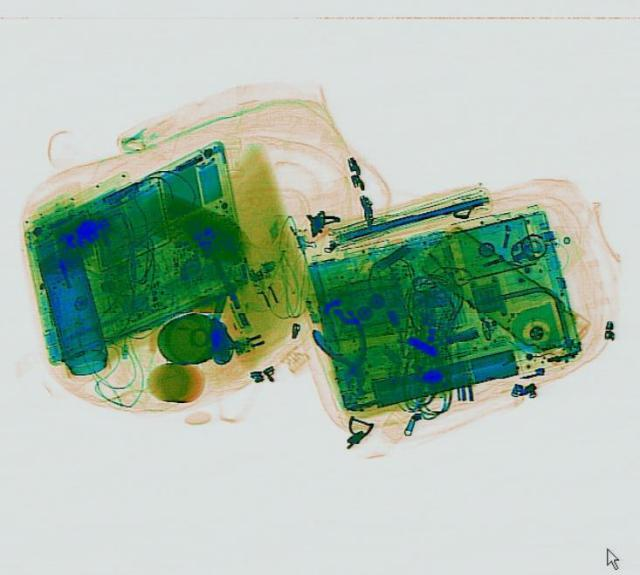Pliers: (309, 318, 381, 395)
